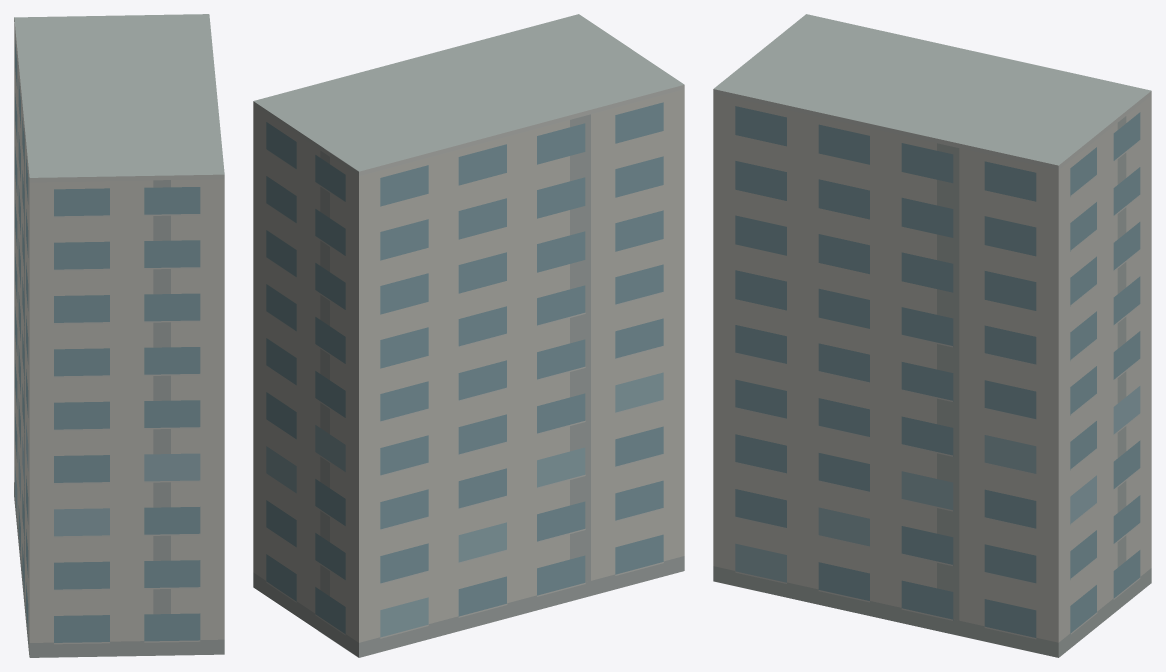
The model's file is residential-df32d4e4-bcc6-4d4f-a780-9564ca694369.glb.
The picture shows the model from 3 angles, left to right: view 1: azimuth 30°, elevation 25°; view 2: azimuth 150°, elevation 25°; view 3: azimuth 270°, elevation 25°; orthographic projection. The views are drawn at different scales.
Visible parts, largest first — view 1: residential-df32d4e4-bcc6-4d4f-a780-9564ca694369.tmp; view 2: residential-df32d4e4-bcc6-4d4f-a780-9564ca694369.tmp; view 3: residential-df32d4e4-bcc6-4d4f-a780-9564ca694369.tmp.
Boxes of the visible parts, box(x1,y1,x2,y2) form: residential-df32d4e4-bcc6-4d4f-a780-9564ca694369.tmp: box(14, 14, 224, 657); residential-df32d4e4-bcc6-4d4f-a780-9564ca694369.tmp: box(253, 14, 684, 657); residential-df32d4e4-bcc6-4d4f-a780-9564ca694369.tmp: box(713, 14, 1151, 657).
Size of the model in its own units: 17.18 by 26 by 20.99.
